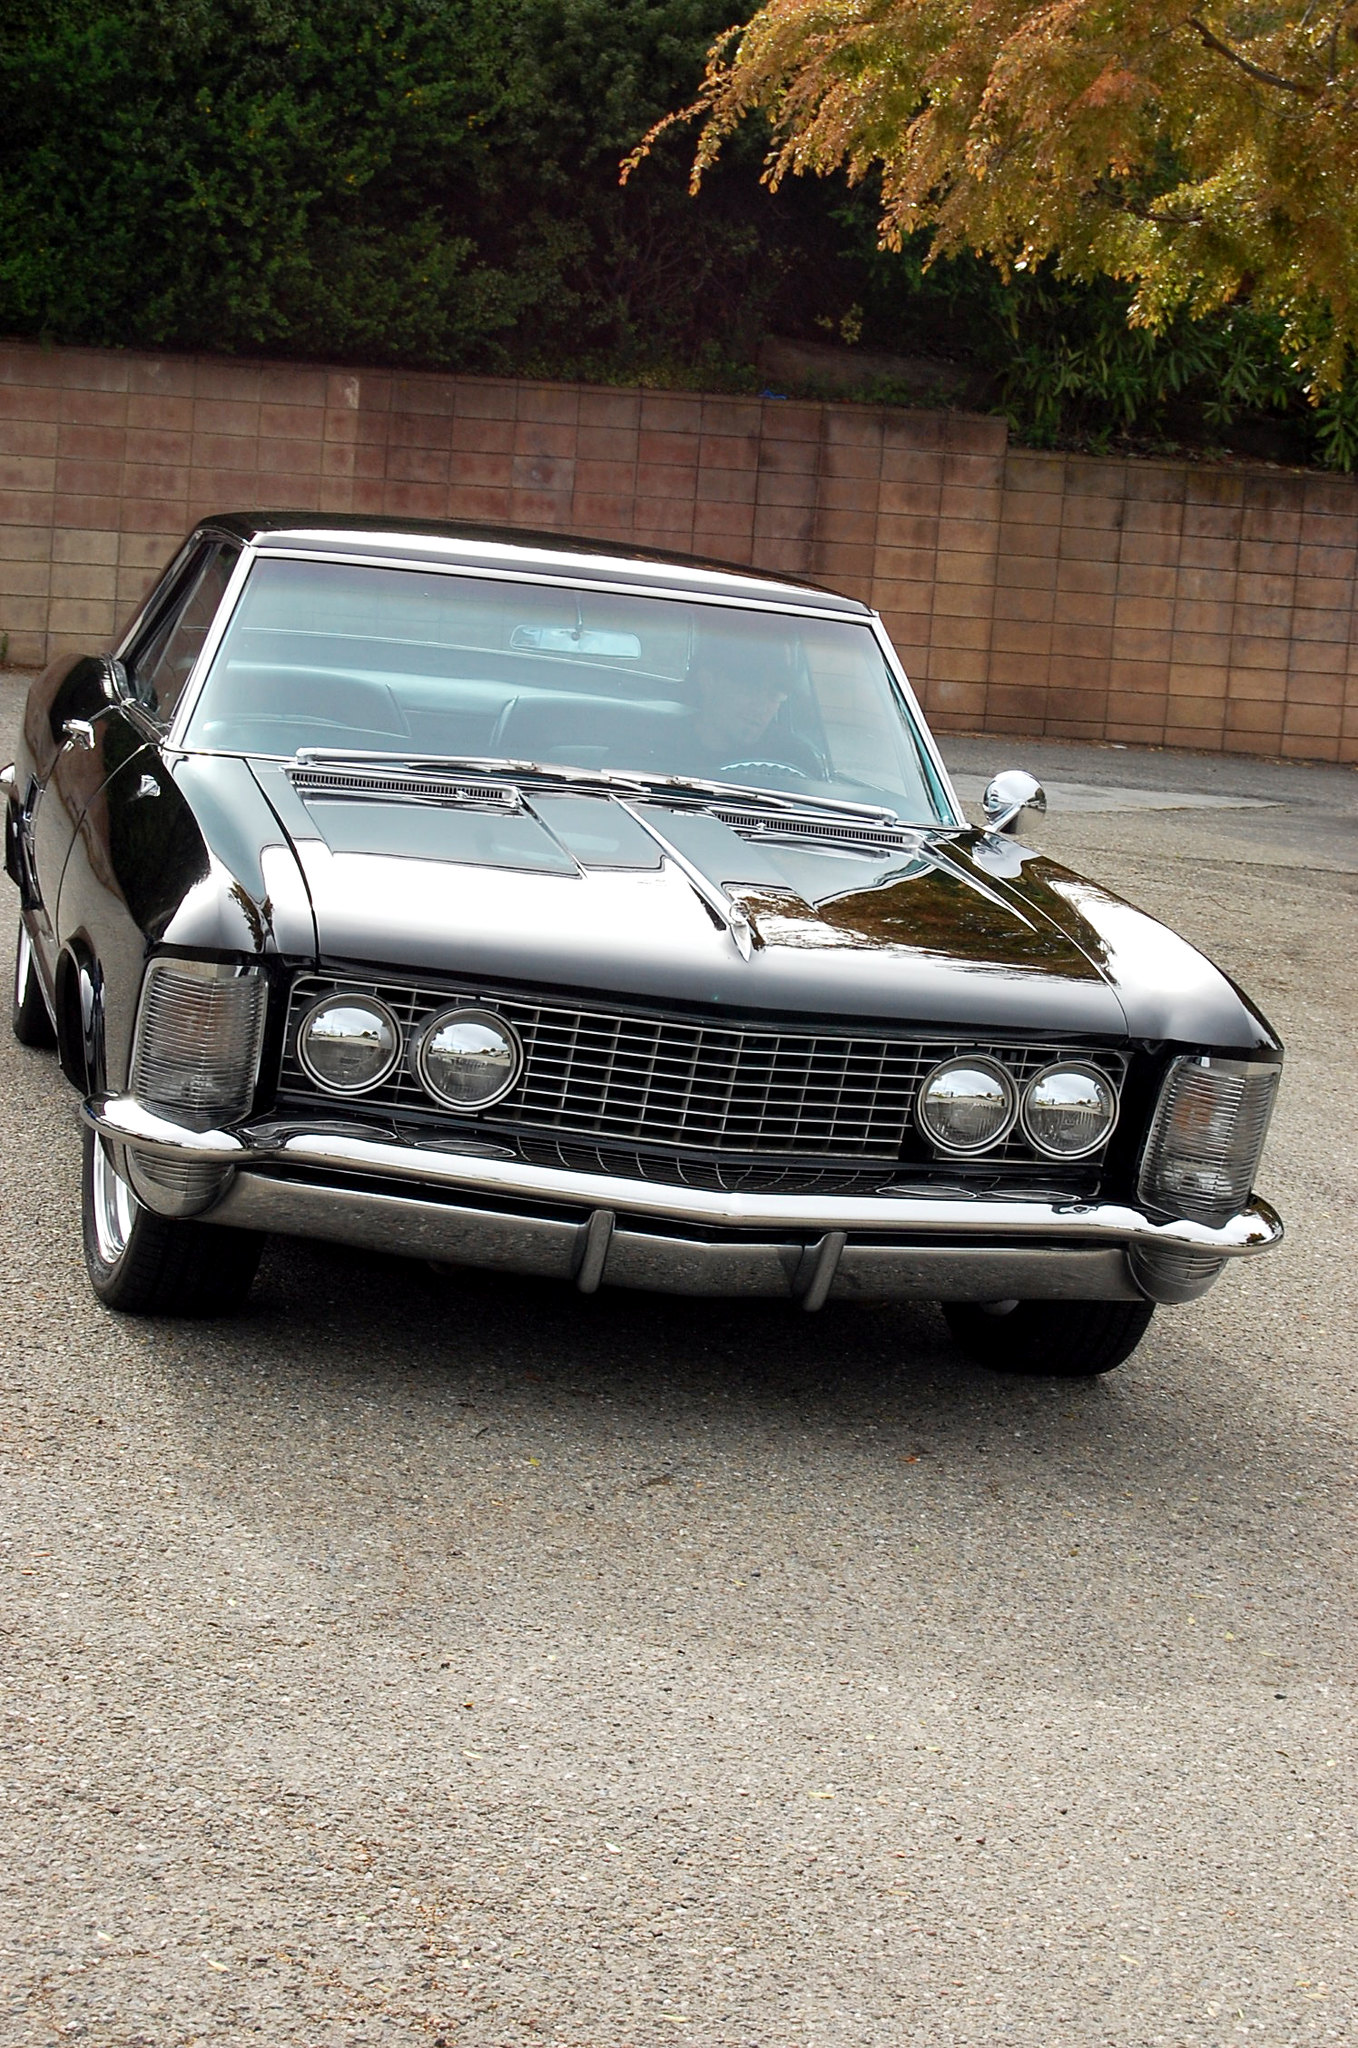Car: (23, 424, 1297, 1388)
